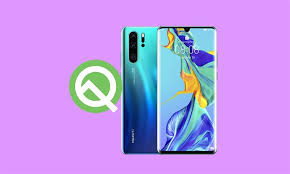huawei: (155, 23, 218, 156), (121, 22, 156, 155)
